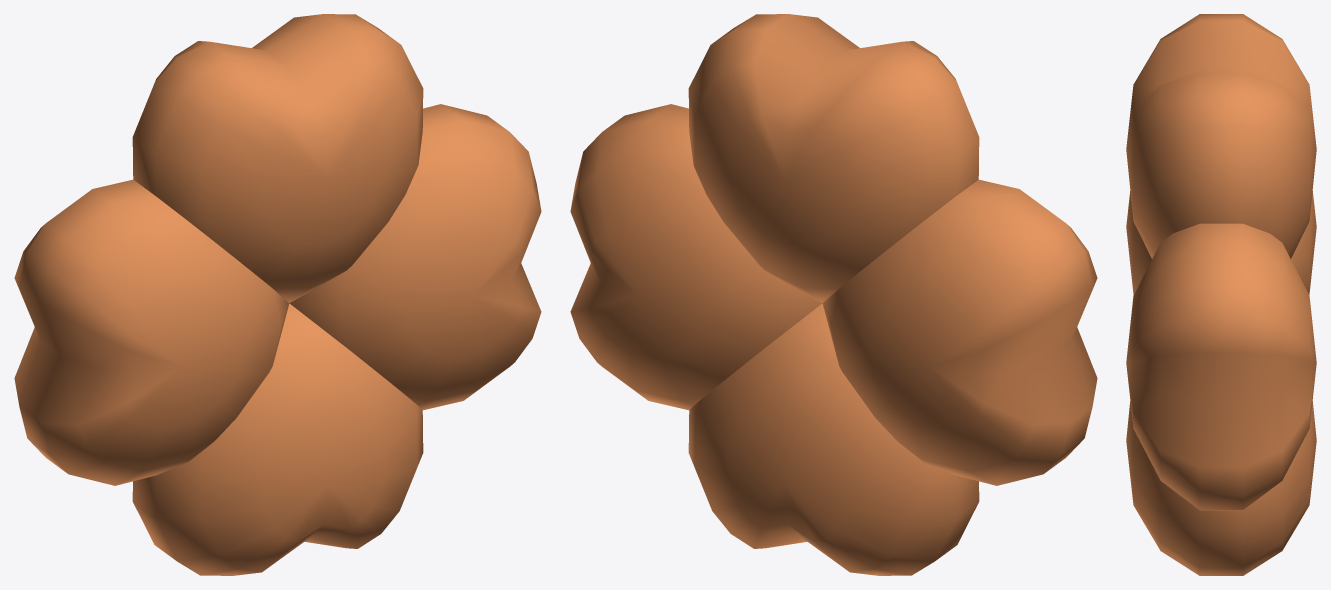
File: DecoClover.fbx
The picture shows the model from 3 angles, left to right: view 1: azimuth 30°, elevation 25°; view 2: azimuth 150°, elevation 25°; view 3: azimuth 270°, elevation 25°; orthographic projection. The views are drawn at different scales.
Visible parts, largest first — view 1: clover001; view 2: clover001; view 3: clover001.
Boxes of the visible parts, x1,y1,x2,y2 form: clover001: (14,14,541,575); clover001: (570,14,1097,575); clover001: (1126,14,1316,575).
Size of the model in its own units: 49.96 by 49.96 by 17.43.
